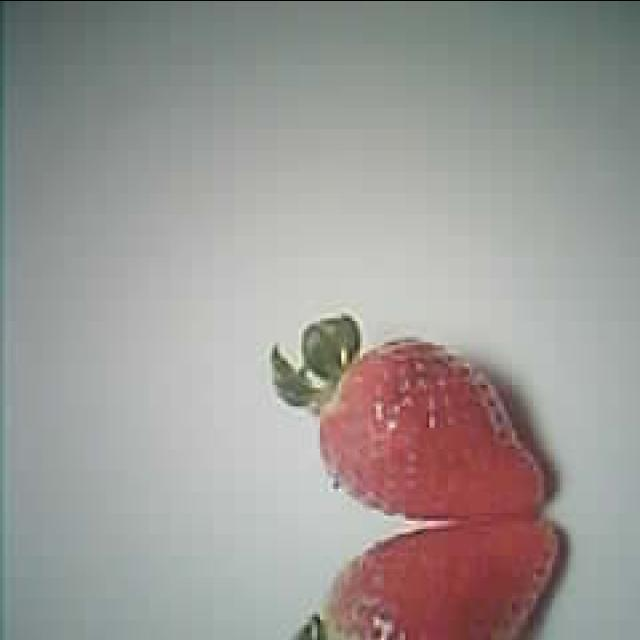strawberry: (312, 336, 545, 522), (310, 521, 560, 640)
